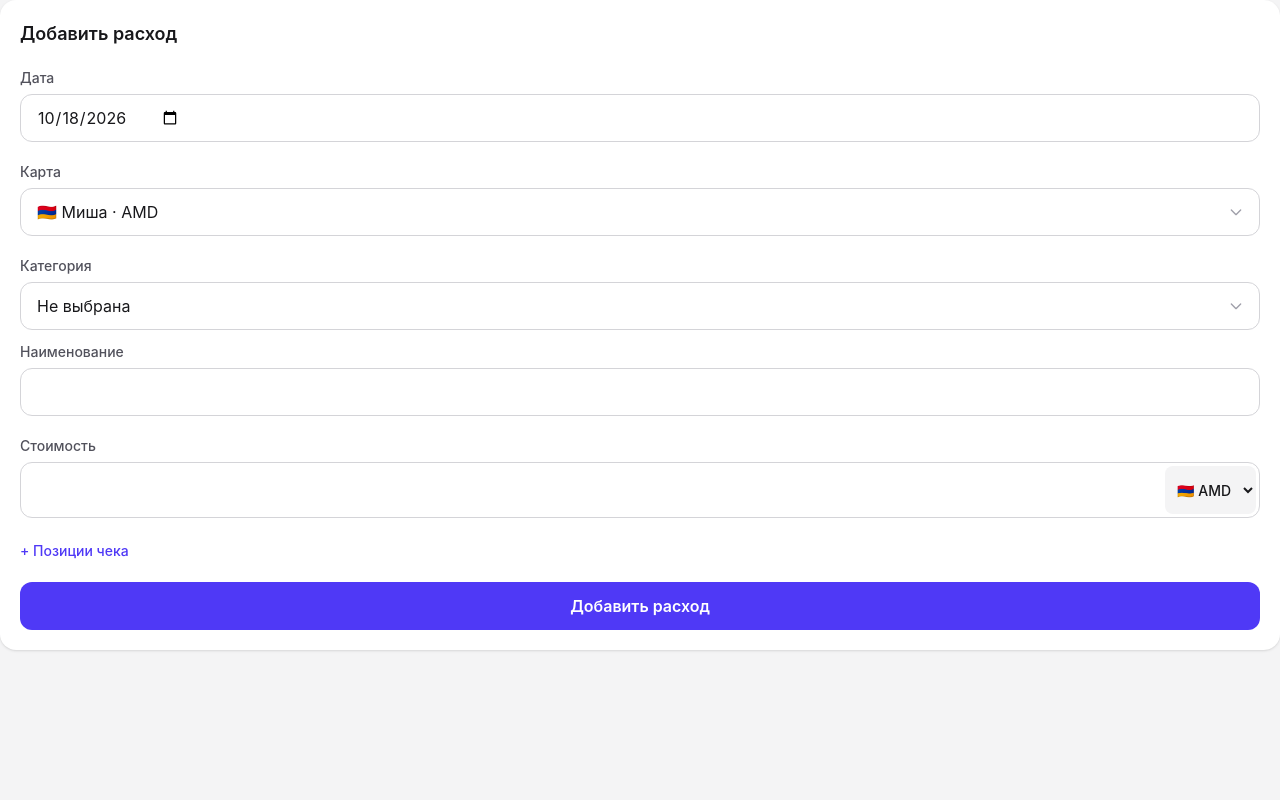
Test: стоимость › если выбрана другая валюта, рядом нейтральная пометка с валютой карты
The image size is (1280, 800).
Expected: the button "Добавить расход" is shown, [20,582,1260,630]
Select "🇺🇸 Доллары · USD" in the dropdown labelled "Карта" at coordinates (640, 212), box [20,188,1260,236]
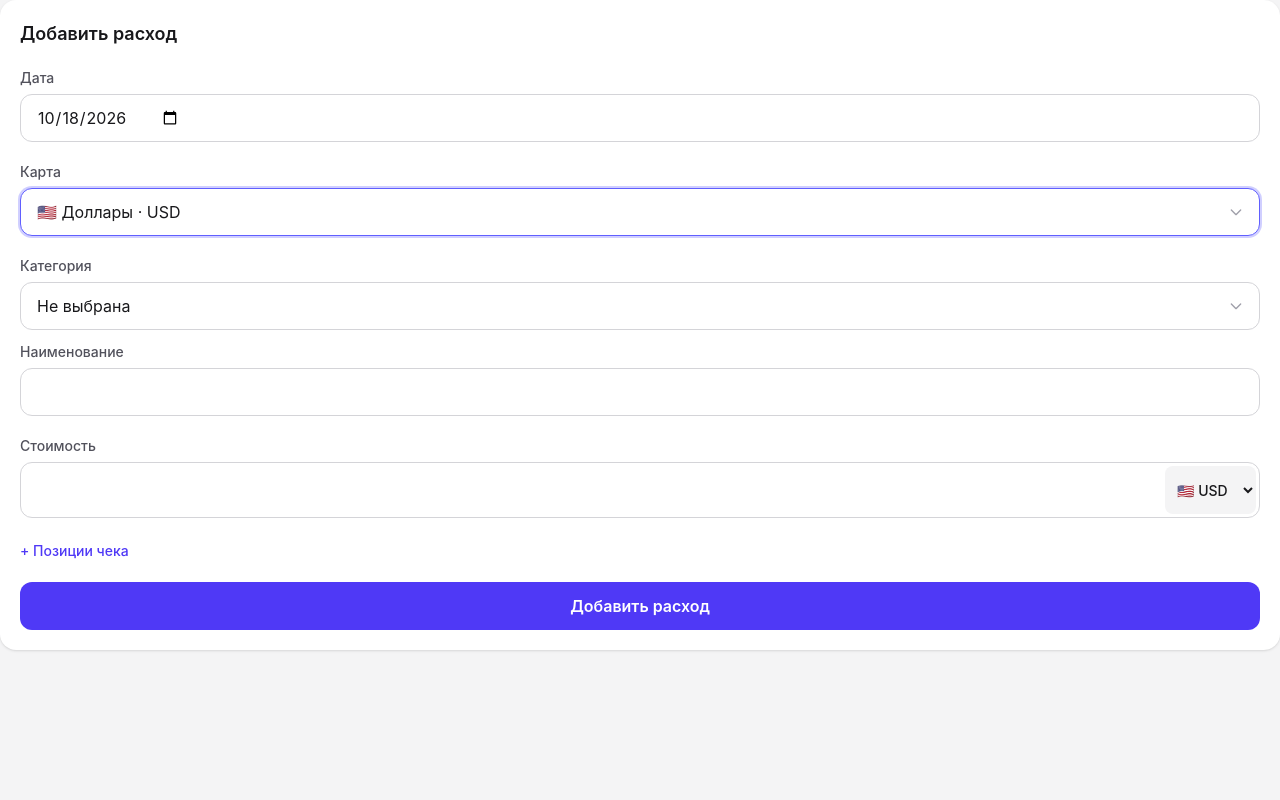
Select "🇦🇲 AMD" in the dropdown named "Валюта" at coordinates (1210, 490), box [1165,466,1256,514]
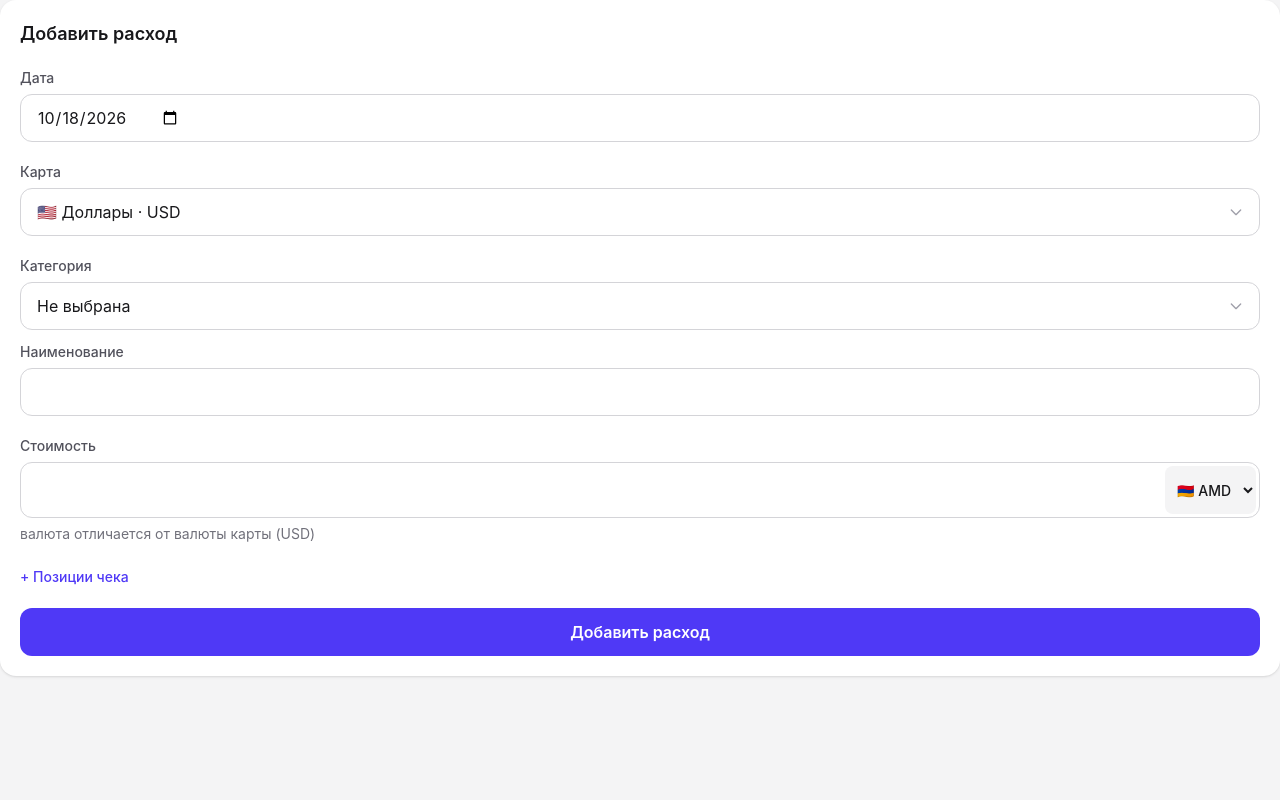
Now the text "валюта отличается от валюты карты (USD)" is shown, box [20,525,315,542]
Select "🇺🇸 USD" in the dropdown named "Валюта" at coordinates (1210, 490), box [1165,466,1256,514]
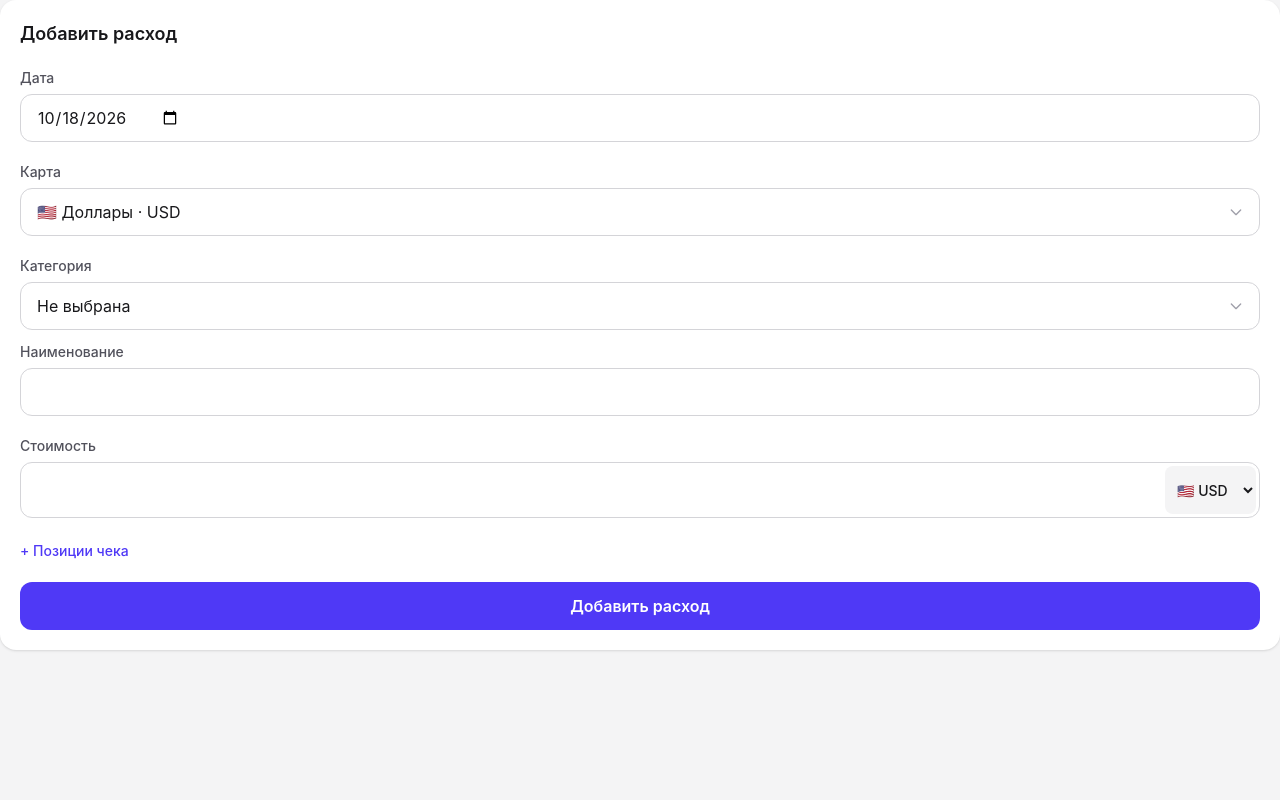
Now the text "валюта отличается" is gone
